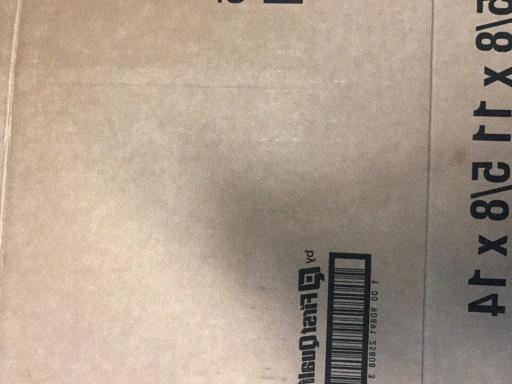cardboard: (0, 6, 511, 383)
